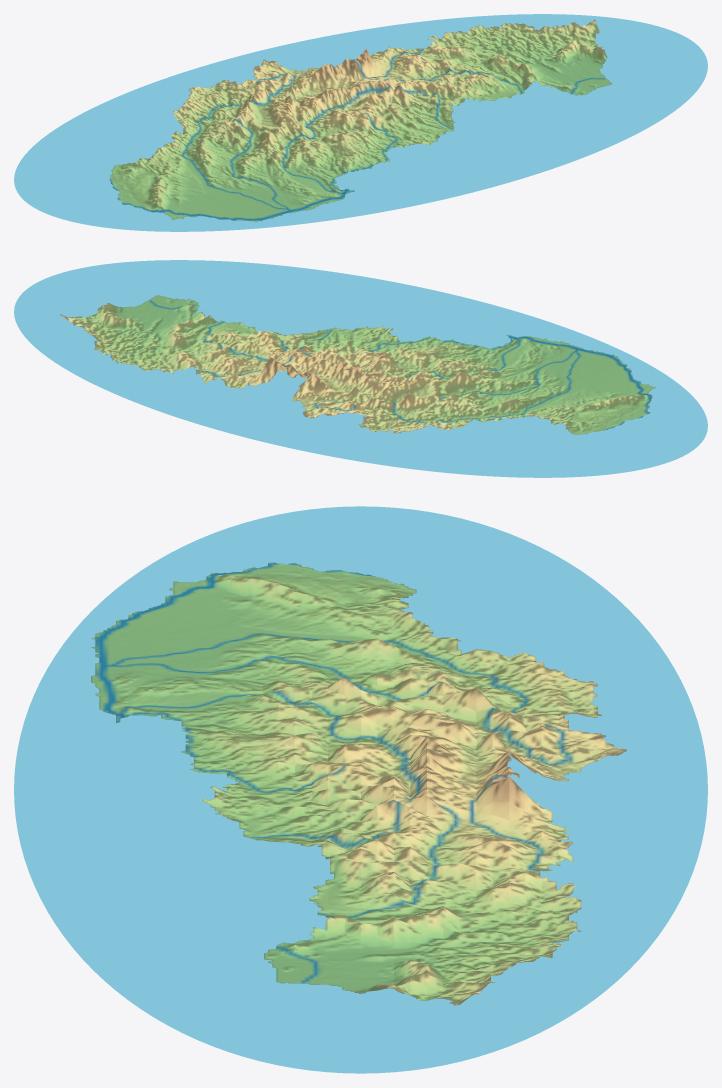
Rendered from SVK-terrain.glb.
The picture shows the model from 3 angles, top to bottom: view 1: azimuth 30°, elevation 25°; view 2: azimuth 150°, elevation 25°; view 3: azimuth 270°, elevation 25°; orthographic projection. The views are drawn at different scales.
Visible parts, largest first — view 1: Relevo com hidrografia; view 2: Relevo com hidrografia; view 3: Relevo com hidrografia.
Part boxes in pixels (<box>): Relevo com hidrografia: <box>14,14,707,231</box>; Relevo com hidrografia: <box>14,260,707,477</box>; Relevo com hidrografia: <box>14,506,707,1073</box>.
Bounding box in the file's own units: 2.01 × 0.0909 × 1.04.
2 materials, 1 textured.
